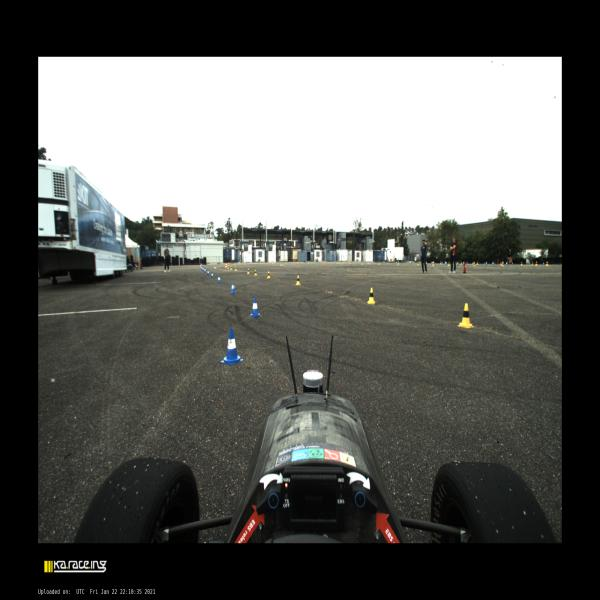blue_cone: (221, 328, 243, 365), (250, 297, 261, 318), (230, 282, 236, 294), (217, 276, 221, 284), (210, 272, 214, 278), (207, 270, 210, 275), (202, 266, 204, 272), (485, 261, 488, 265), (204, 268, 206, 273), (505, 262, 508, 265), (492, 262, 494, 266), (305, 260, 307, 264), (334, 260, 336, 264), (371, 260, 373, 264), (445, 261, 447, 265), (216, 263, 218, 266), (383, 261, 385, 264), (413, 261, 415, 264), (457, 262, 459, 265), (484, 262, 486, 265), (289, 260, 290, 264), (348, 260, 349, 264), (466, 262, 468, 264), (431, 261, 432, 265), (396, 261, 397, 264), (410, 261, 411, 264), (512, 262, 513, 265), (543, 262, 544, 265), (209, 264, 210, 266), (319, 261, 320, 263), (420, 261, 421, 263), (463, 262, 464, 264)
large_orange_cone: (200, 264, 202, 269), (226, 263, 227, 268)
yellow_cone: (458, 303, 474, 328), (368, 288, 375, 304), (296, 275, 300, 285), (267, 271, 271, 279), (254, 270, 257, 276), (535, 261, 538, 266), (247, 268, 249, 274), (502, 261, 504, 267), (473, 262, 476, 266), (235, 266, 237, 271), (230, 266, 232, 270), (228, 265, 230, 269), (546, 262, 548, 266), (520, 262, 522, 266), (476, 261, 478, 265), (448, 262, 450, 266), (432, 262, 434, 266), (417, 262, 419, 265), (285, 261, 287, 264), (297, 261, 299, 264), (337, 261, 339, 264), (440, 261, 441, 265), (378, 262, 380, 264), (308, 260, 309, 264), (234, 262, 235, 266), (272, 262, 274, 264), (349, 261, 350, 264), (244, 262, 245, 265), (260, 262, 261, 265), (324, 261, 325, 264), (532, 262, 533, 265), (398, 262, 399, 264), (362, 262, 363, 264), (461, 262, 462, 264), (456, 262, 457, 264)
